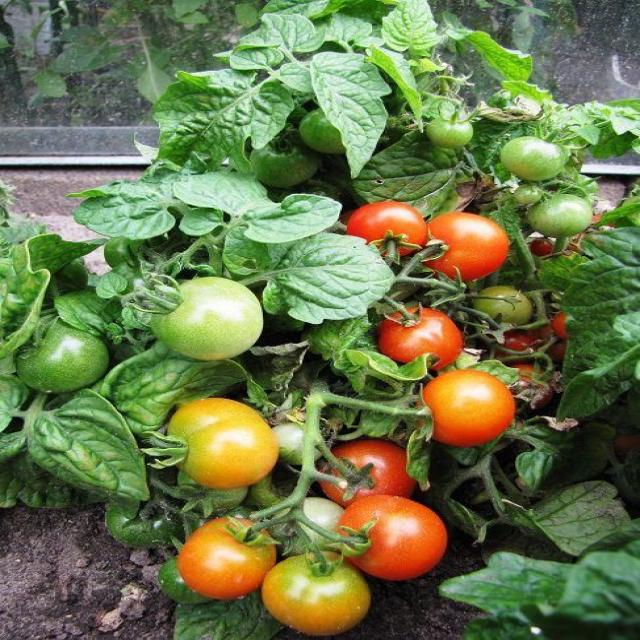level 1: (10, 315, 114, 392), (298, 104, 378, 156)
level 2: (144, 277, 263, 358), (278, 498, 368, 566), (505, 138, 566, 179), (527, 196, 592, 233), (262, 416, 317, 456), (480, 285, 533, 326), (428, 116, 470, 146)
level 4: (160, 398, 275, 487), (258, 556, 365, 638)
level 5: (178, 517, 278, 597), (416, 369, 518, 442)
level 6: (333, 497, 445, 581), (321, 437, 421, 513), (421, 214, 510, 280), (380, 309, 464, 373), (344, 202, 426, 261)
